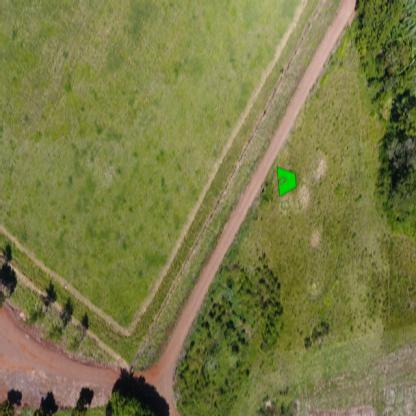D: (278, 175, 288, 186)
trapezium: (276, 164, 296, 197)
